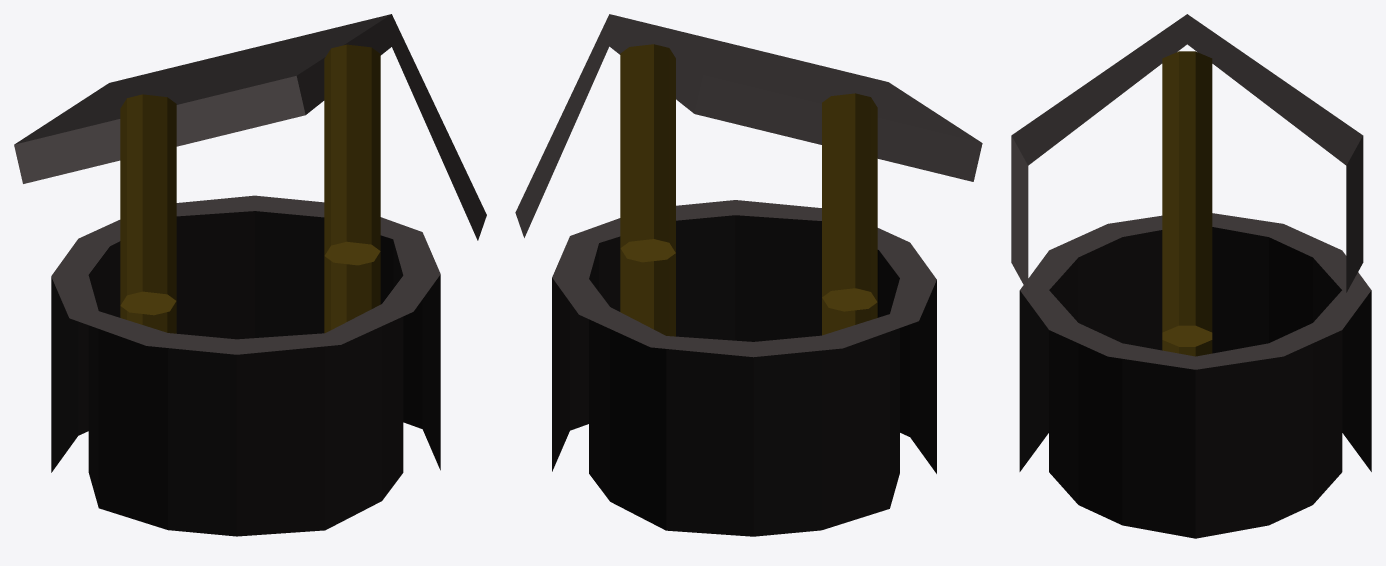
Rendered from obj_well_2_0.obj.
The picture shows the model from 3 angles, left to right: view 1: azimuth 30°, elevation 25°; view 2: azimuth 150°, elevation 25°; view 3: azimuth 270°, elevation 25°; orthographic projection. The views are drawn at different scales.
Bounding box in the file's own units: 1.41 × 1.62 × 1.34.
